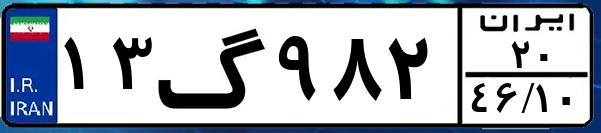0: (560, 70, 590, 125), (537, 27, 568, 80)
1: (57, 26, 110, 100), (535, 70, 560, 125)
2: (385, 28, 445, 110), (508, 27, 537, 80)
3: (110, 28, 156, 98)
4: (470, 70, 495, 125)
6: (495, 70, 520, 125)
8: (330, 28, 385, 110)
9: (270, 28, 330, 110)
گ: (156, 12, 270, 120)
